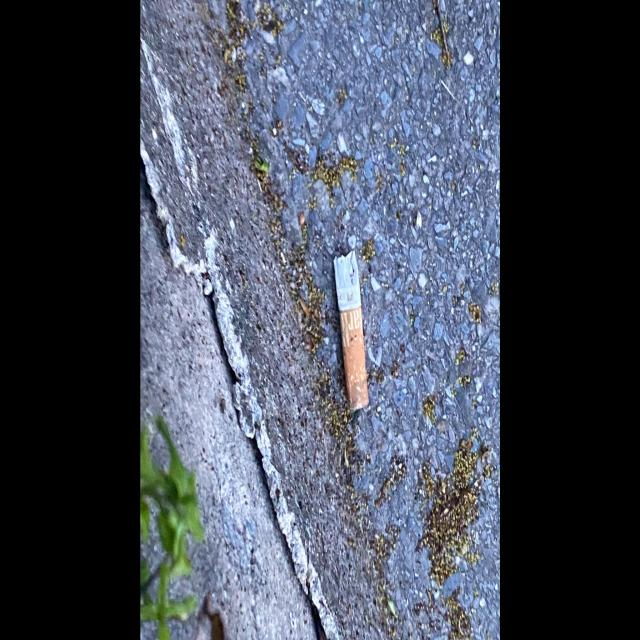other waste: (333, 249, 369, 412)
